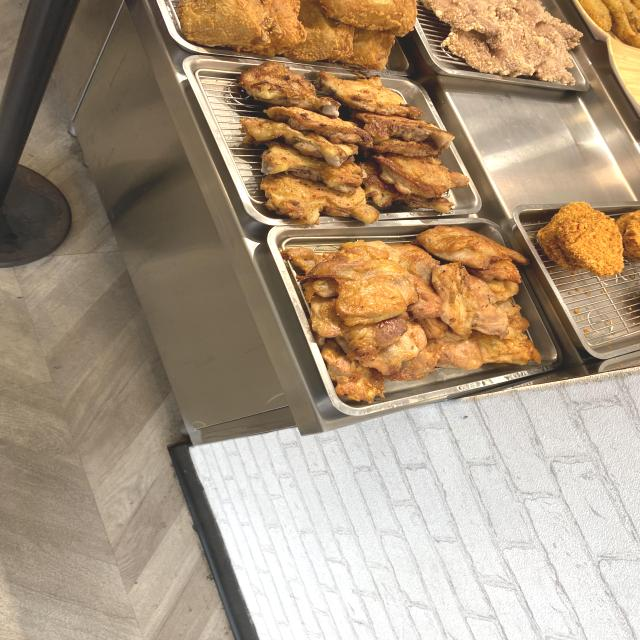Chicken Leg Steak: (352, 250, 497, 363), (282, 94, 411, 199)
